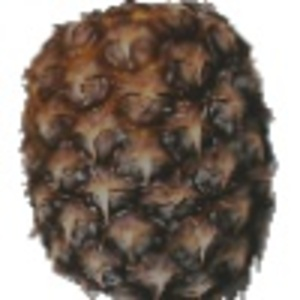abacaxi: (16, 4, 285, 298)
